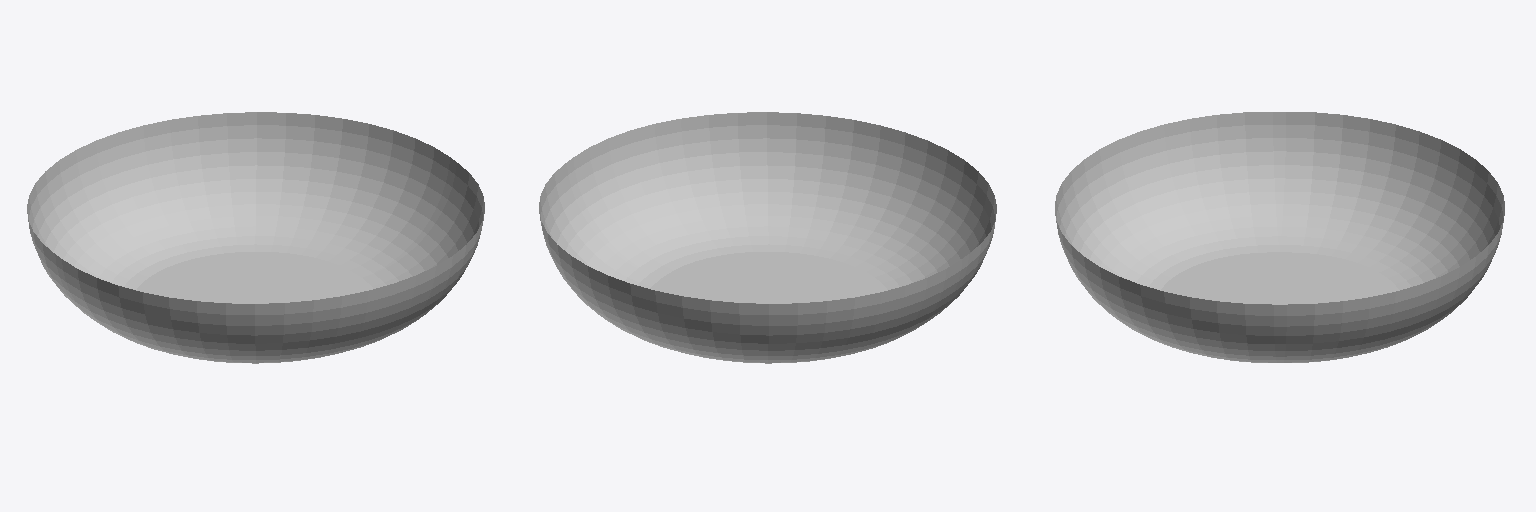
File: CJPTBackground.obj
3 renders of one model, left to right at view 1: azimuth 30°, elevation 25°; view 2: azimuth 150°, elevation 25°; view 3: azimuth 270°, elevation 25°, orthographic.
Visible parts, largest first — view 1: SketchUp; view 2: SketchUp; view 3: SketchUp.
Part boxes in pixels (x1,y1,x2,y2): SketchUp: (27,112,484,363); SketchUp: (539,112,996,363); SketchUp: (1055,112,1504,362).
Size of the model in its own units: 30.16 by 6.99 by 29.78.